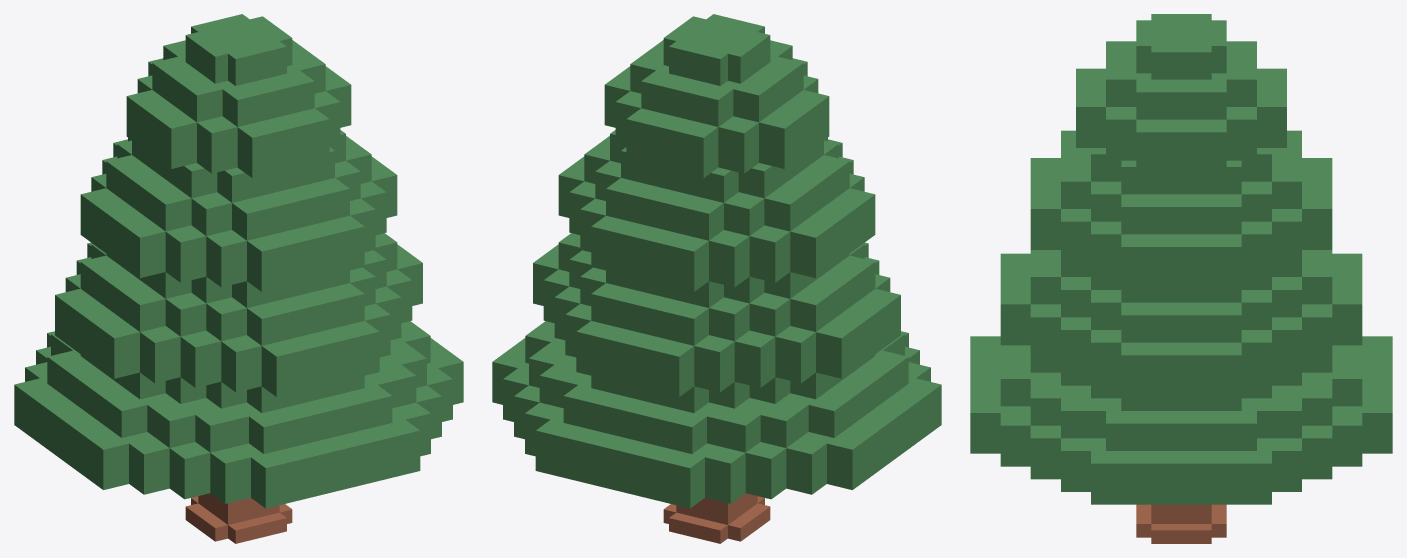
Rendered from village_tree_4.glb.
The picture shows the model from 3 angles, left to right: view 1: azimuth 30°, elevation 25°; view 2: azimuth 150°, elevation 25°; view 3: azimuth 270°, elevation 25°; orthographic projection.
Parts seen in each view (by area): view 1: village_tree_4; view 2: village_tree_4; view 3: village_tree_4.
Boxes of the visible parts, x1=… form: village_tree_4: x1=14, y1=14, x2=463, y2=543; village_tree_4: x1=492, y1=14, x2=941, y2=543; village_tree_4: x1=970, y1=14, x2=1392, y2=543.
Size of the model in its own units: 2.8 by 3.6 by 2.8.
1 material, 1 textured.
